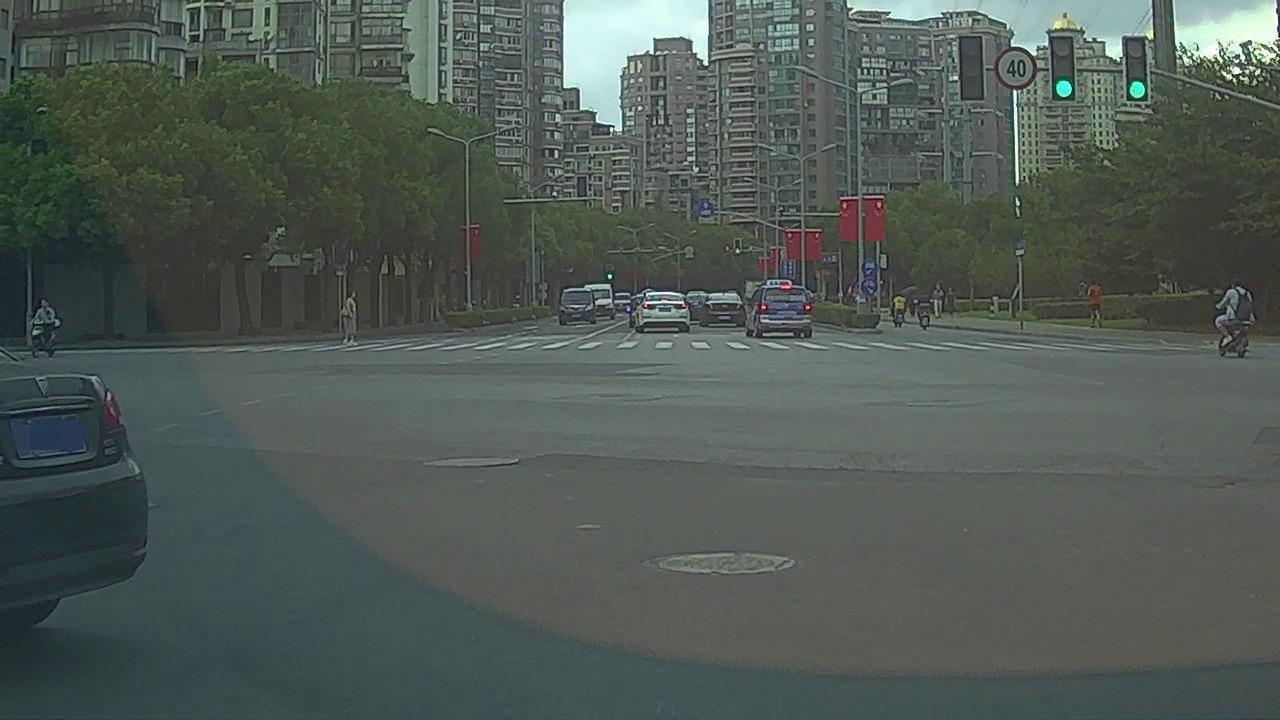traffic_light: (959, 36, 983, 100), (1124, 37, 1148, 101), (1051, 37, 1074, 102)
